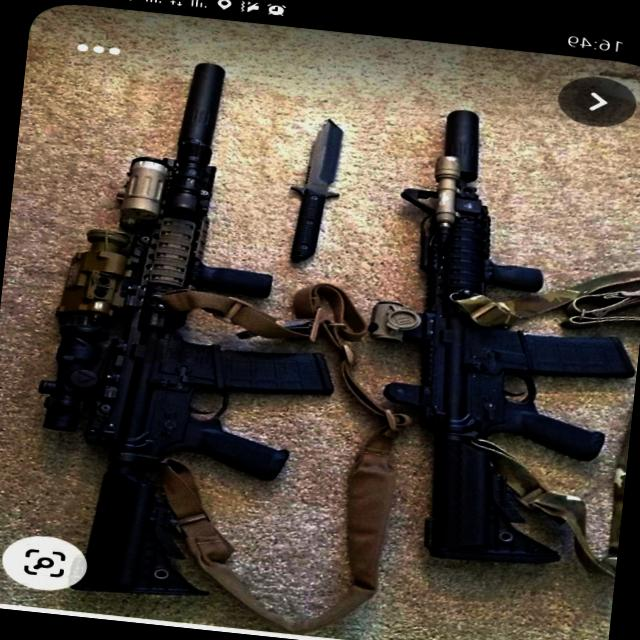m16: (21, 74, 298, 532)
